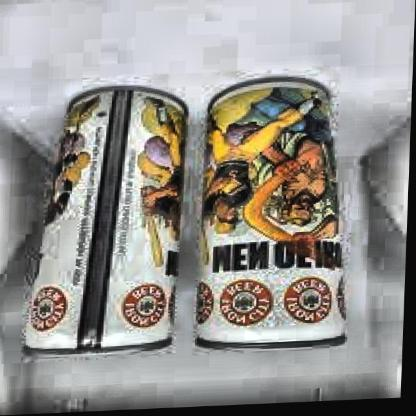Can: (192, 75, 358, 364), (23, 84, 195, 362)
